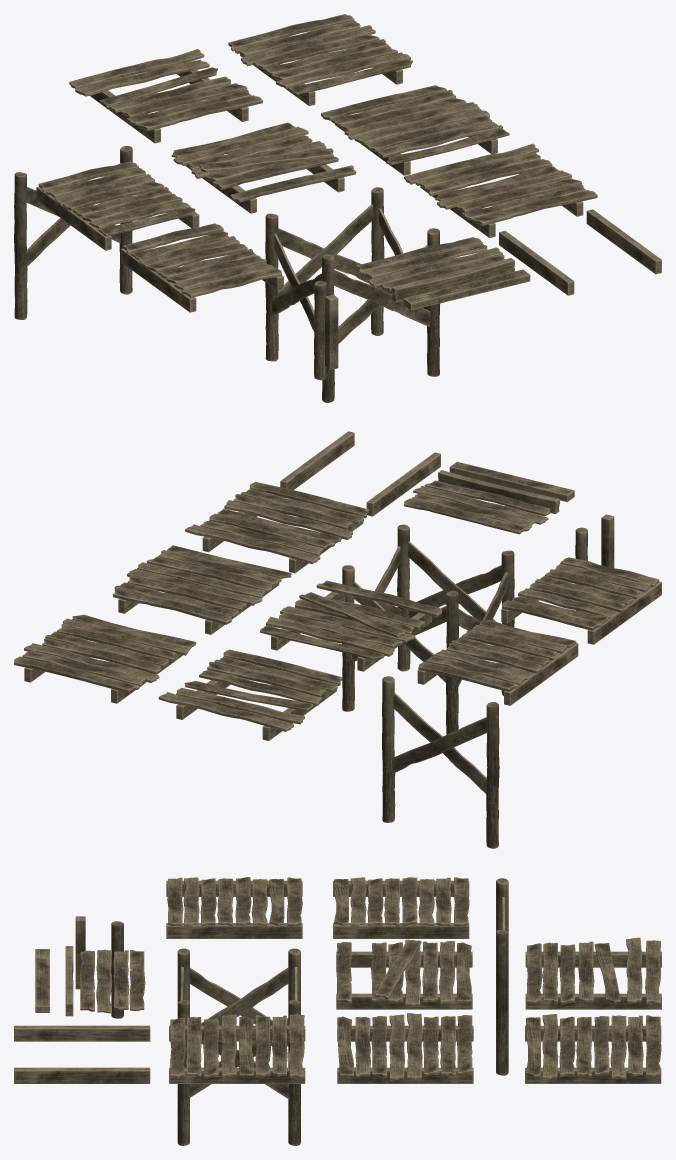
The model's file is wooden_planks_dock_set.glb.
The picture shows the model from 3 angles, top to bottom: view 1: azimuth 30°, elevation 25°; view 2: azimuth 150°, elevation 25°; view 3: azimuth 270°, elevation 25°; orthographic projection.
Parts seen in each view (by area): view 1: Cube.019, Cube.007, Cube.001, Cube.002, Cube.003, Cube.012, Cube.014, Cube.015, Cube.016, Cube.013, Cube.005, Cube.004 (+6 smaller); view 2: Cube.001, Cube.019, Cube.007, Cube.002, Cube.003, Cube.012, Cube.015, Cube.014, Cube.016, Cube.013, Cube.005, Cube.004 (+5 smaller); view 3: Cube.002, Cube.007, Cube.001, Cube.012, Cube.003, Cube.014, Cube.015, Cube.019, Cube.013, Cube.016, Cube.005, Cube.010 (+6 smaller).
Boxes of the visible parts, bbox=[...] form: Cube.019: bbox=[265, 187, 440, 402]; Cube.007: bbox=[228, 14, 412, 105]; Cube.001: bbox=[404, 143, 597, 237]; Cube.002: bbox=[321, 85, 509, 175]; Cube.003: bbox=[69, 49, 262, 143]; Cube.012: bbox=[171, 122, 356, 213]; Cube.014: bbox=[36, 161, 199, 250]; Cube.015: bbox=[121, 223, 283, 312]; Cube.016: bbox=[14, 146, 132, 319]; Cube.013: bbox=[499, 209, 661, 295]; Cube.005: bbox=[403, 269, 530, 310]; Cube.004: bbox=[391, 258, 514, 302]; Cube.001: bbox=[185, 481, 368, 573]; Cube.019: bbox=[342, 524, 514, 734]; Cube.007: bbox=[14, 614, 196, 703]; Cube.002: bbox=[112, 545, 291, 634]; Cube.003: bbox=[158, 649, 342, 740]; Cube.012: bbox=[260, 580, 442, 671]; Cube.015: bbox=[501, 557, 661, 644]; Cube.014: bbox=[417, 620, 578, 705]; Cube.016: bbox=[382, 676, 499, 848]; Cube.013: bbox=[280, 431, 440, 516]; Cube.005: bbox=[449, 461, 574, 501]; Cube.004: bbox=[438, 470, 560, 514]; Cube.002: bbox=[337, 1013, 473, 1083]; Cube.007: bbox=[525, 1014, 661, 1083]; Cube.001: bbox=[169, 1014, 305, 1083]; Cube.012: bbox=[336, 939, 472, 1009]; Cube.003: bbox=[525, 937, 661, 1009]; Cube.014: bbox=[333, 877, 469, 938]; Cube.015: bbox=[166, 877, 302, 938]; Cube.019: bbox=[177, 948, 300, 1145]; Cube.013: bbox=[14, 1025, 150, 1083]; Cube.016: bbox=[496, 878, 508, 1075]; Cube.005: bbox=[35, 949, 49, 1012]; Cube.010: bbox=[96, 949, 112, 1013].
Size of the model in its own units: 20.24 by 7.11 by 27.5.
1 material, 1 textured.
